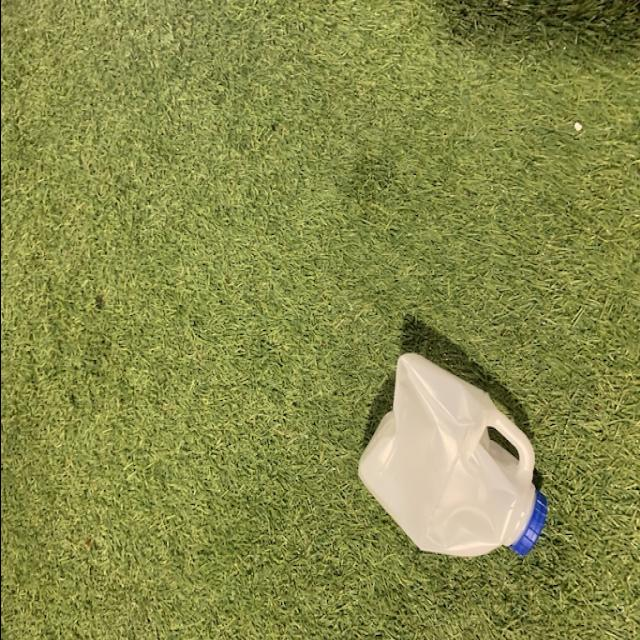HDPEM: (342, 344, 546, 560)
